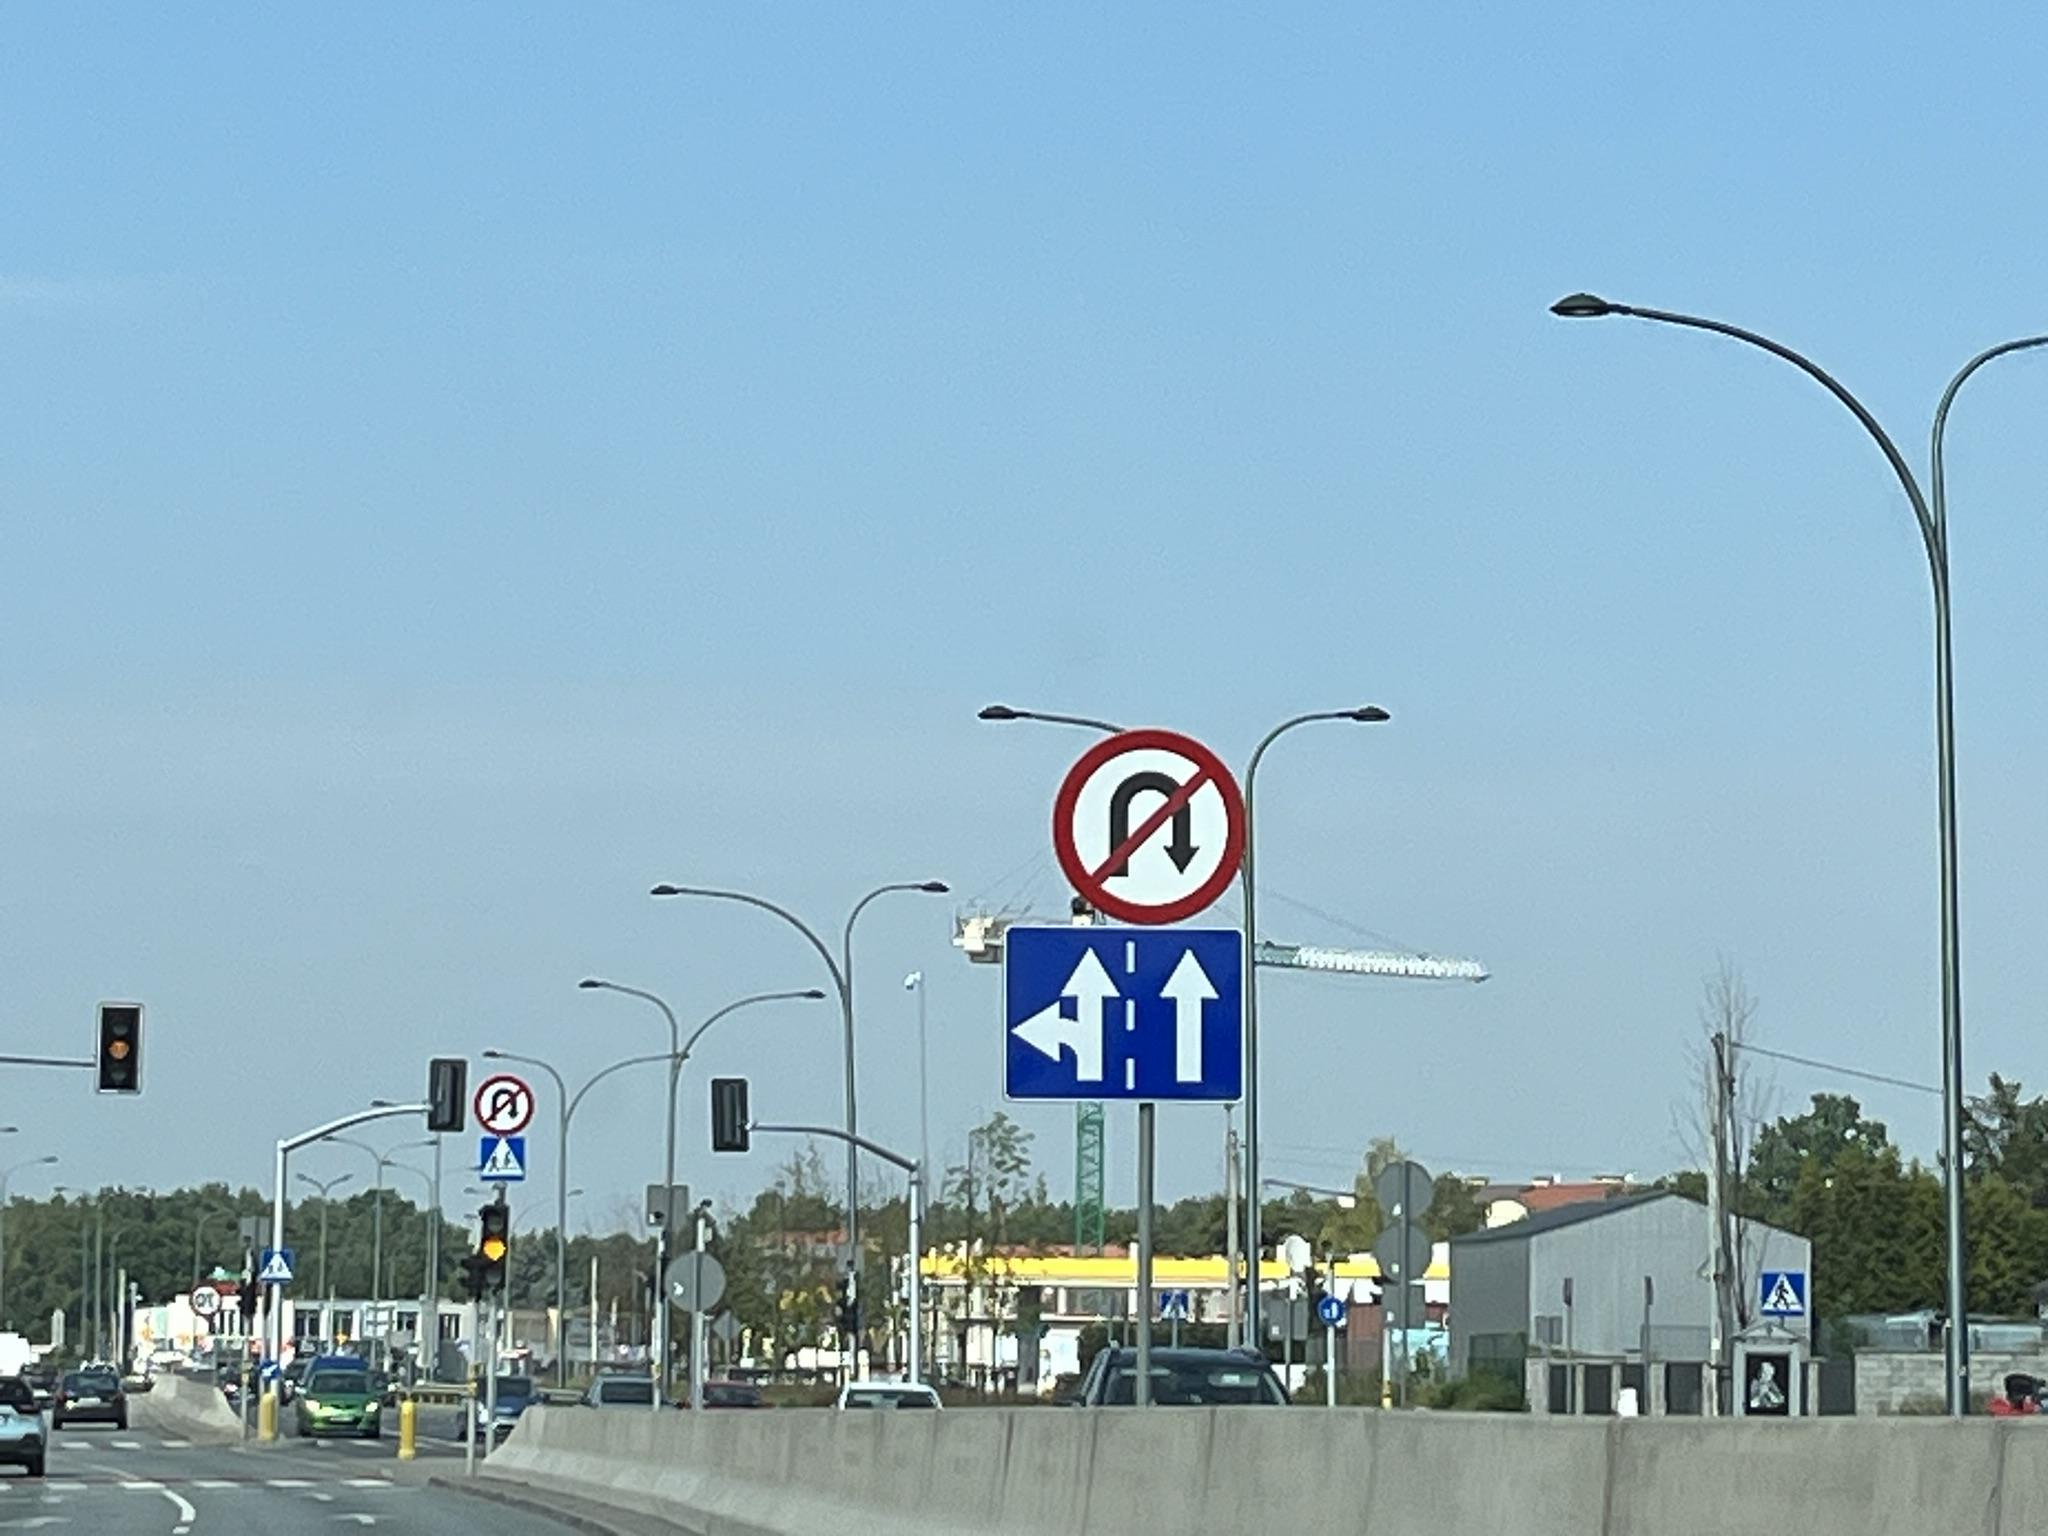information: (479, 1136, 527, 1184), (1758, 1271, 1807, 1318), (262, 1248, 294, 1284), (1159, 1293, 1188, 1319)
mandatory: (1320, 1298, 1344, 1324)
other: (1000, 924, 1244, 1102)
prohibitory: (1050, 722, 1246, 930), (474, 1074, 534, 1136), (189, 1284, 221, 1318)
